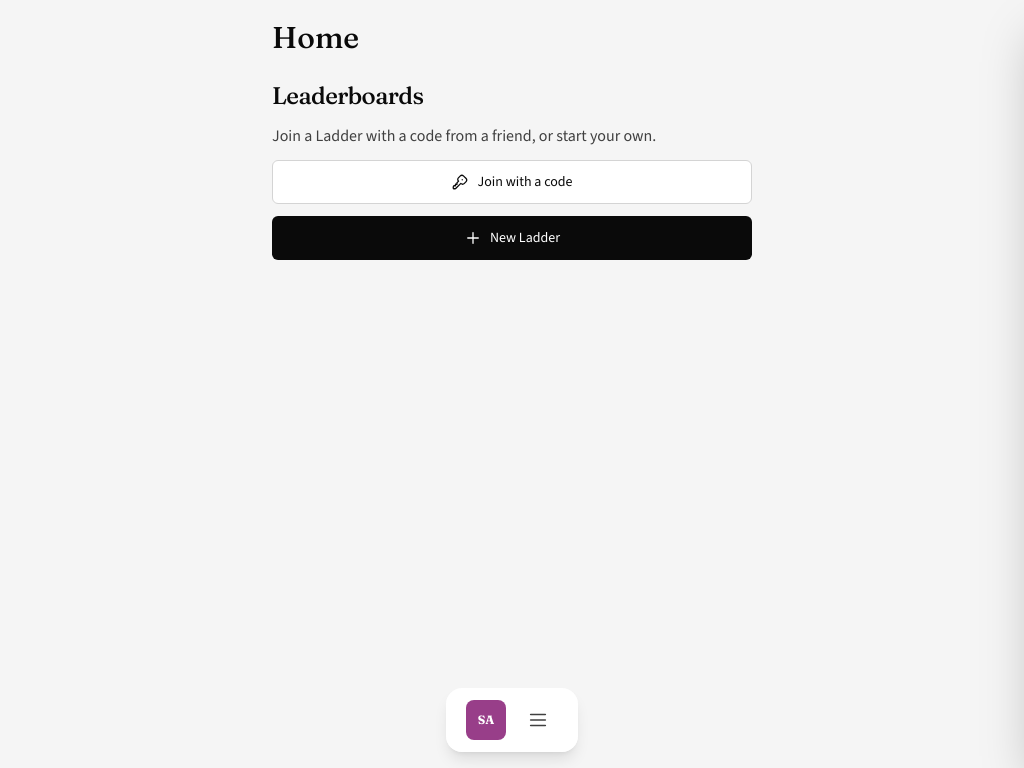
Home Ladders › says when a Join code matches no Ladder
The width and height of the screenshot is (1024, 768).
Step 1. Click the button "Join with a code" → (512, 182), box [272,160,752,204]
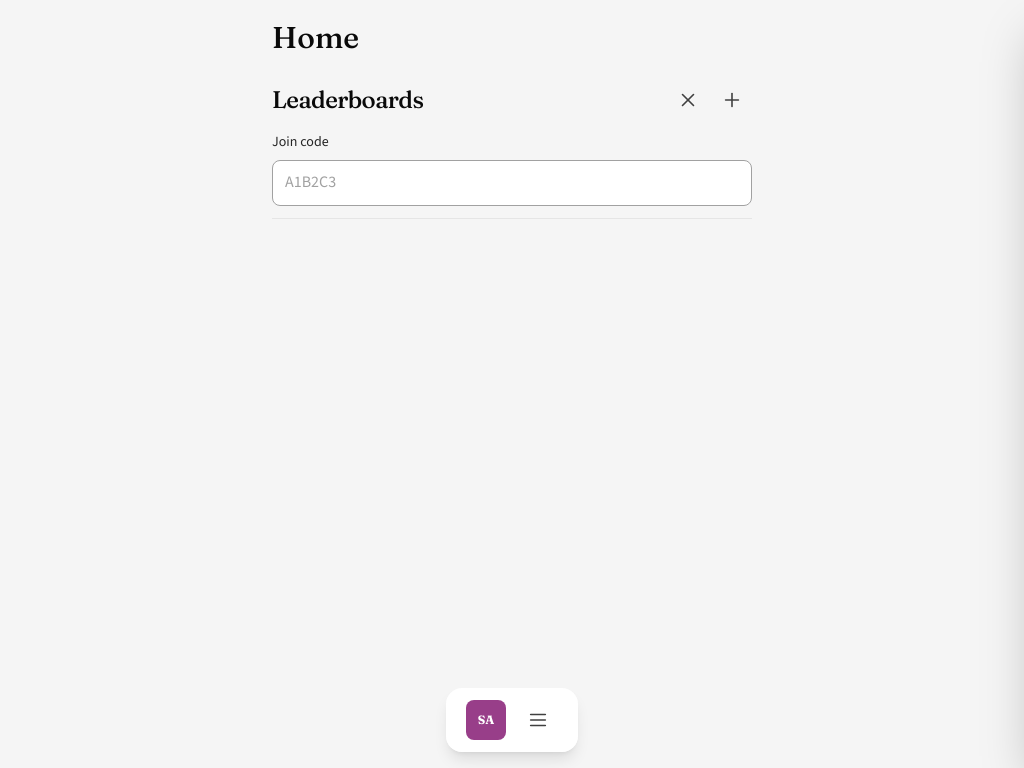
Step 2. Type "ZZZZZ9" into the field labelled "Join code" → (512, 183), box [272,160,752,206]
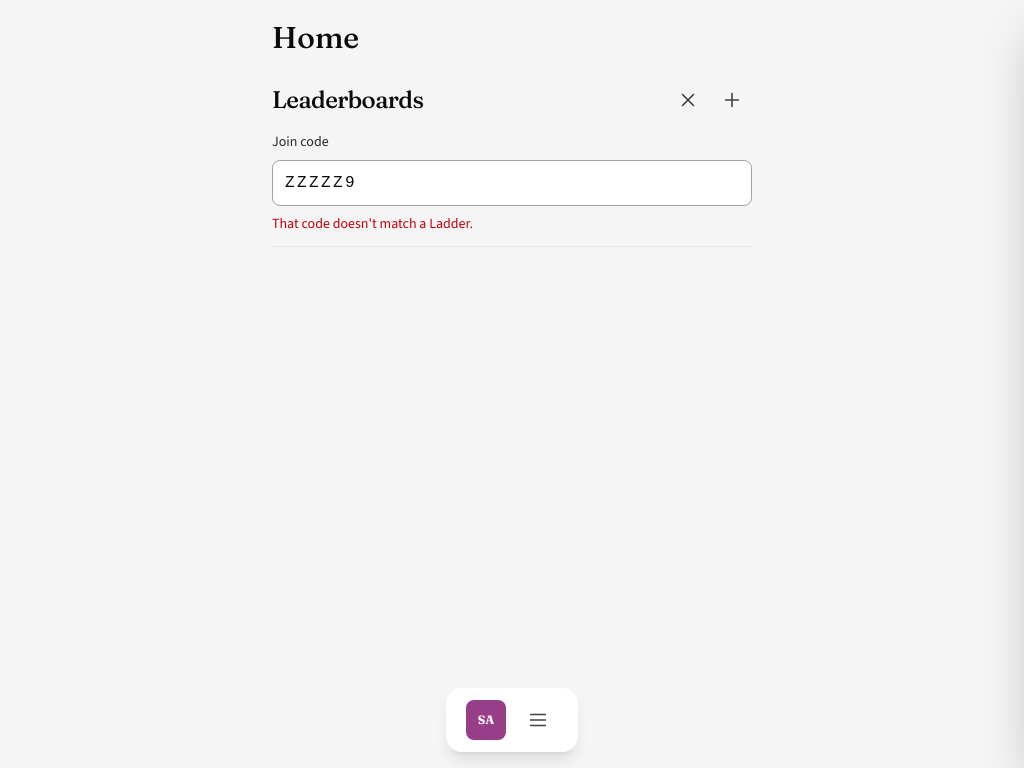
Expected: the text "That code doesn't match a Ladder." is shown, [272,214,473,233]
